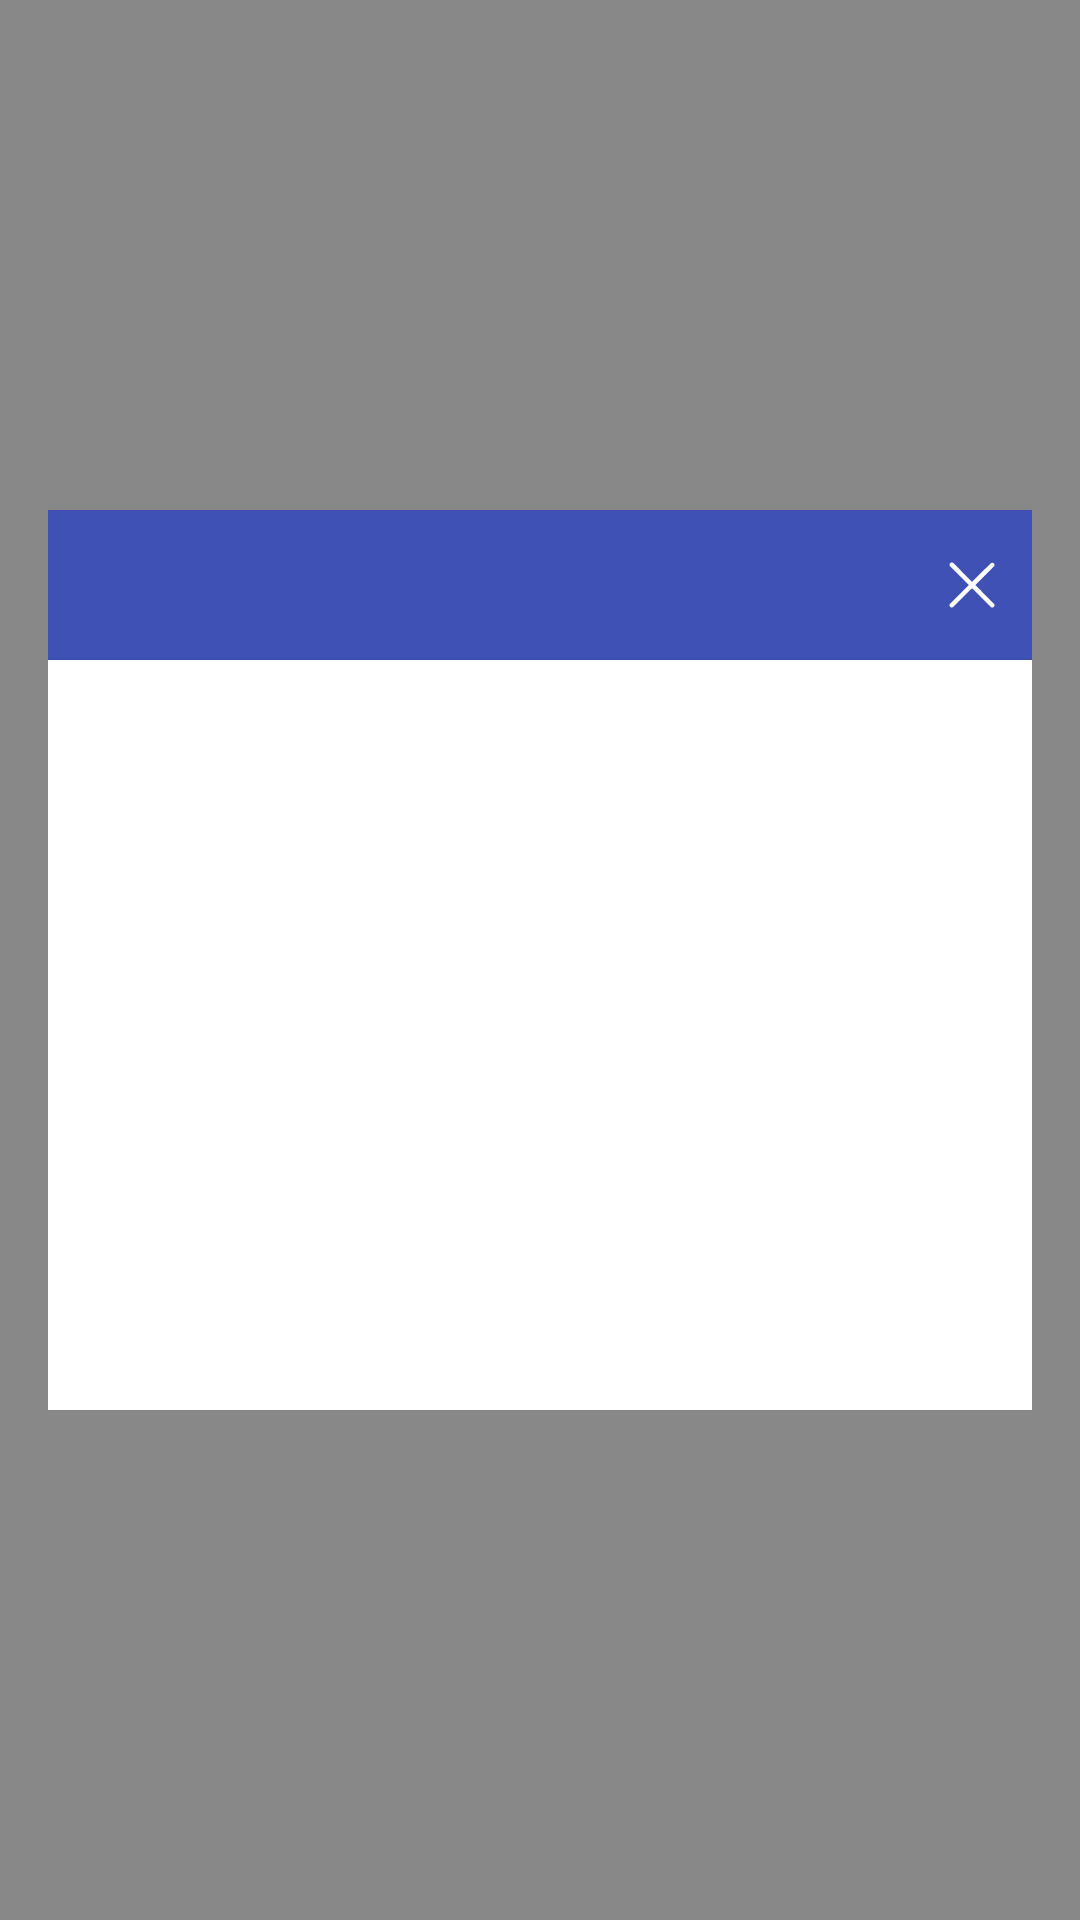

Where to tap for icons on this 1080x1920 app screen, as (x=x, y=y):
close: (x=972, y=585)
